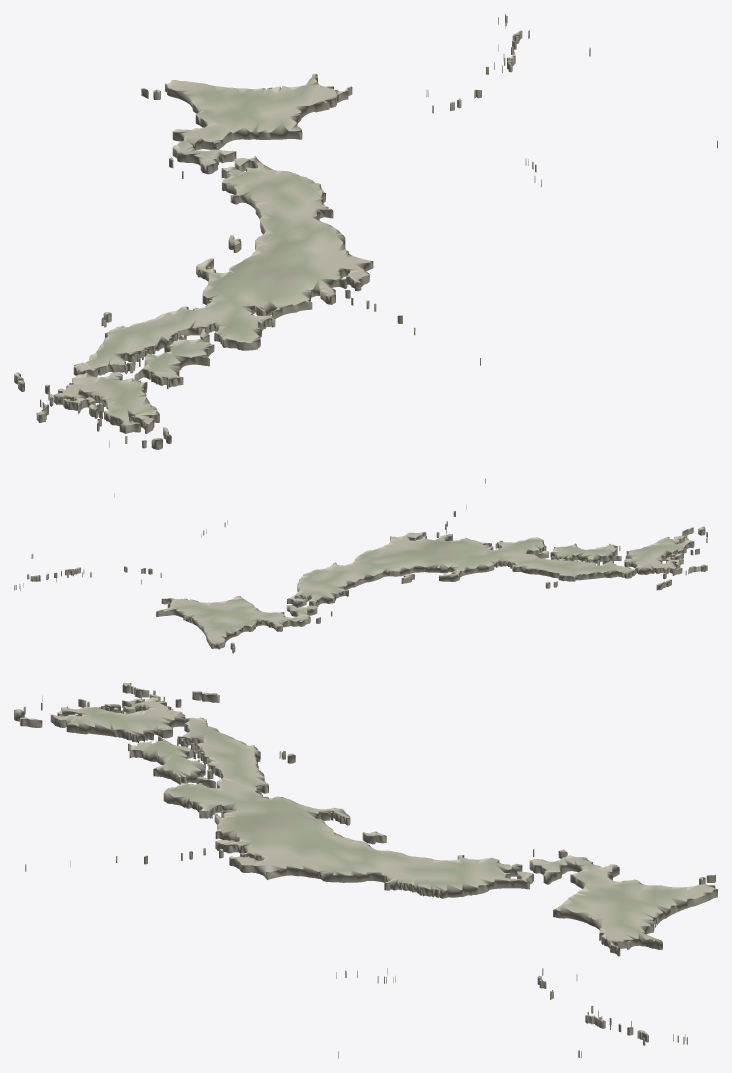
The model's file is jp-mobile.glb.
The picture shows the model from 3 angles, top to bottom: view 1: azimuth 30°, elevation 25°; view 2: azimuth 150°, elevation 25°; view 3: azimuth 270°, elevation 25°; orthographic projection. The views are drawn at different scales.
Bounding box in the file's own units: 124 × 2.09 × 99.93.
